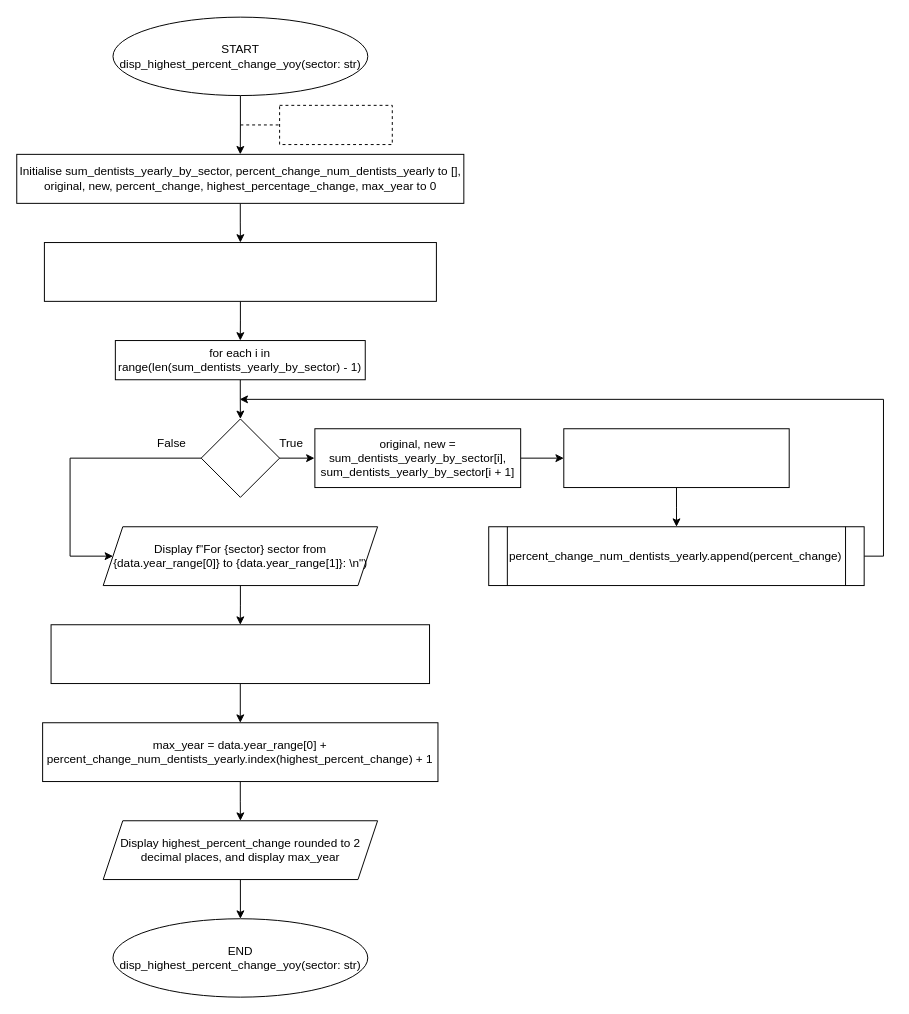
This 909x1014 diagram has some shape labels left out. The centre of each missing label's shape, as x and y in pixels:
highest_percent_change = max(percent_change_num_dentists_yearly): point 240,654
i in sequence ?: point 240,457
import data: point 335,124
percent_change = data.calc_percent_change(original, new): point 676,458
sum_dentists_yearly_by_sector = data.get_sum_yearly_by_sector(sector): point 239,271
